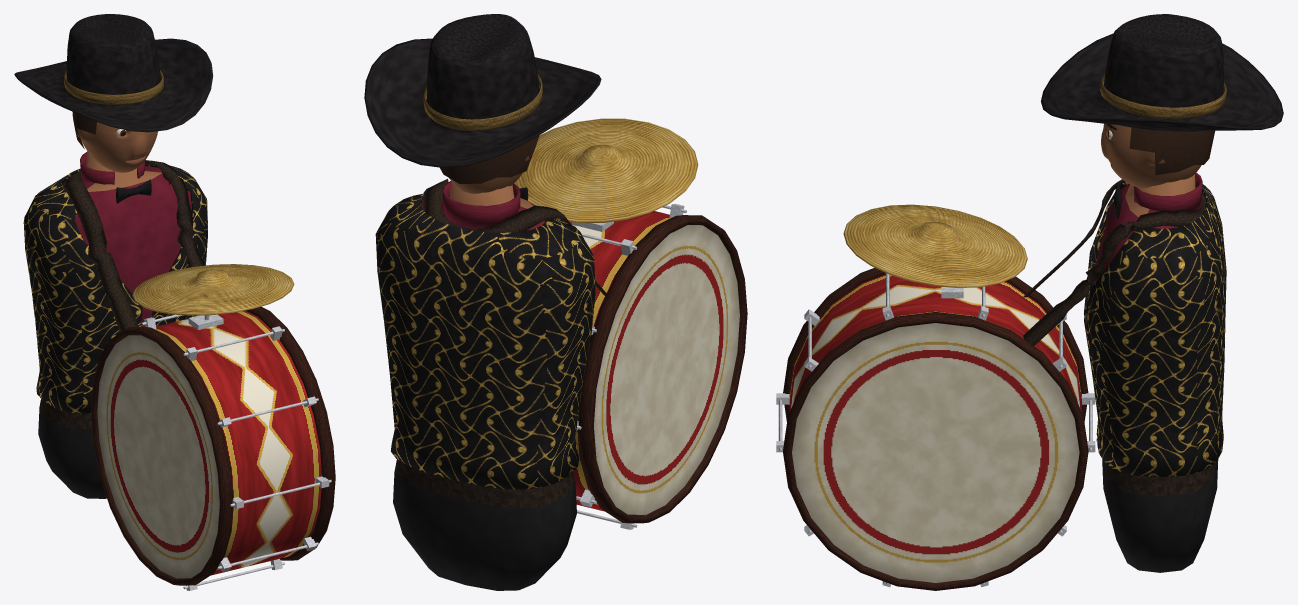
The model's file is torso.obj.
3 views of the same model, side by side, from view 1: azimuth 30°, elevation 25°; view 2: azimuth 150°, elevation 25°; view 3: azimuth 270°, elevation 25° (orthographic). The views are drawn at different scales.
Parts seen in each view (by area): view 1: tambora_Tambora, tambora_Chaleco, tambora_Sombrero, tambora_Torso, tambora_Cabeza, tambora_Cuello, tambora_Mono, tambora_Pelo; view 2: tambora_Tambora, tambora_Chaleco, tambora_Sombrero, tambora_Torso, tambora_Pelo, tambora_Cuello, tambora_Cabeza; view 3: tambora_Tambora, tambora_Chaleco, tambora_Sombrero, tambora_Torso, tambora_Pelo, tambora_Cabeza, tambora_Cuello.
Boxes of the visible parts, <box> form: tambora_Tambora: <box>63,160,335,590</box>; tambora_Chaleco: <box>23,160,207,413</box>; tambora_Sombrero: <box>14,14,213,132</box>; tambora_Torso: <box>38,151,192,498</box>; tambora_Cabeza: <box>77,122,157,172</box>; tambora_Cuello: <box>80,152,144,184</box>; tambora_Mono: <box>116,179,151,203</box>; tambora_Pelo: <box>72,111,96,148</box>; tambora_Tambora: <box>422,118,747,529</box>; tambora_Chaleco: <box>375,193,595,489</box>; tambora_Sombrero: <box>364,14,601,167</box>; tambora_Torso: <box>393,181,576,590</box>; tambora_Pelo: <box>440,135,539,183</box>; tambora_Cuello: <box>442,181,520,228</box>; tambora_Cabeza: <box>449,156,529,193</box>; tambora_Tambora: <box>776,179,1205,590</box>; tambora_Chaleco: <box>1084,181,1226,476</box>; tambora_Sombrero: <box>1041,14,1283,131</box>; tambora_Torso: <box>1093,174,1218,572</box>; tambora_Pelo: <box>1129,127,1214,175</box>; tambora_Cabeza: <box>1101,123,1201,187</box>; tambora_Cuello: <box>1134,172,1202,211</box>.
Size of the model in its own units: 0.4 by 1.05 by 0.9095.
Materials: 20 (20 with a texture image).
